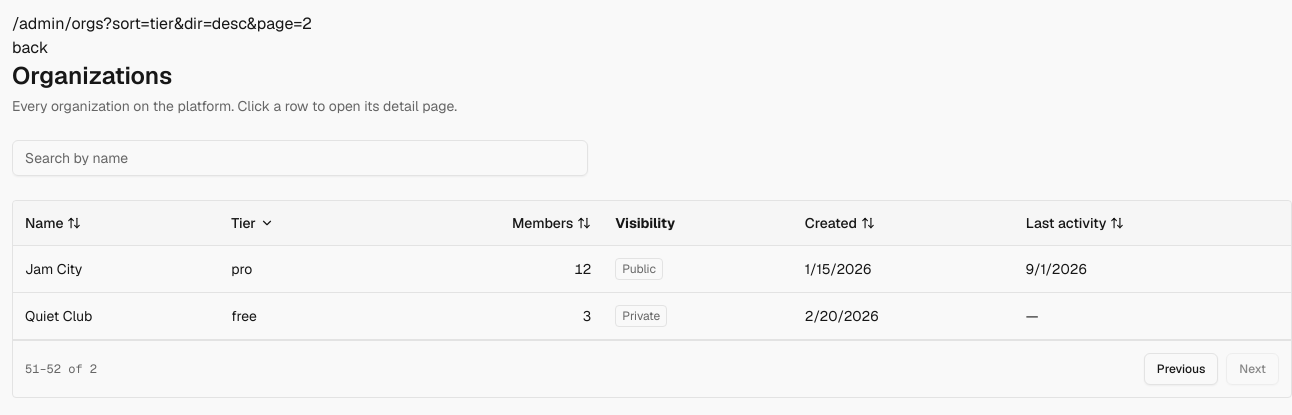
Test: Organizations › resets to asc when a new column is sorted
Expected: the text "Jam City" is shown, [13,246,219,292]
Click the button "Members".
click(552, 223)  # box [512,213,591,233]
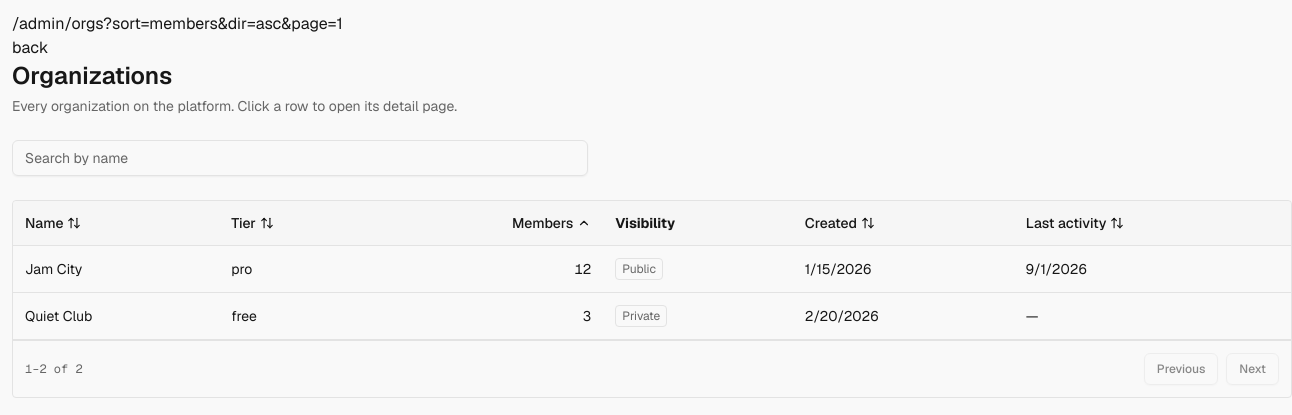
Result: the text with test id "location" shows "sort=members&dir=asc&page=1" at [12,13,343,34]
